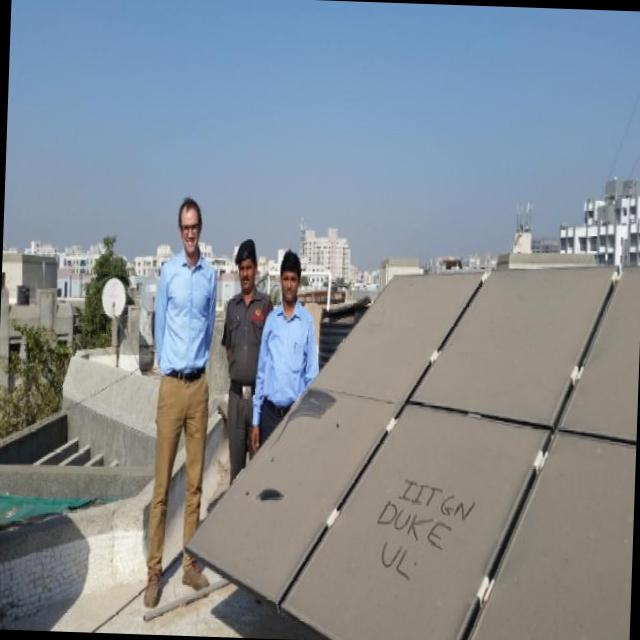faulty: (187, 265, 640, 640)
